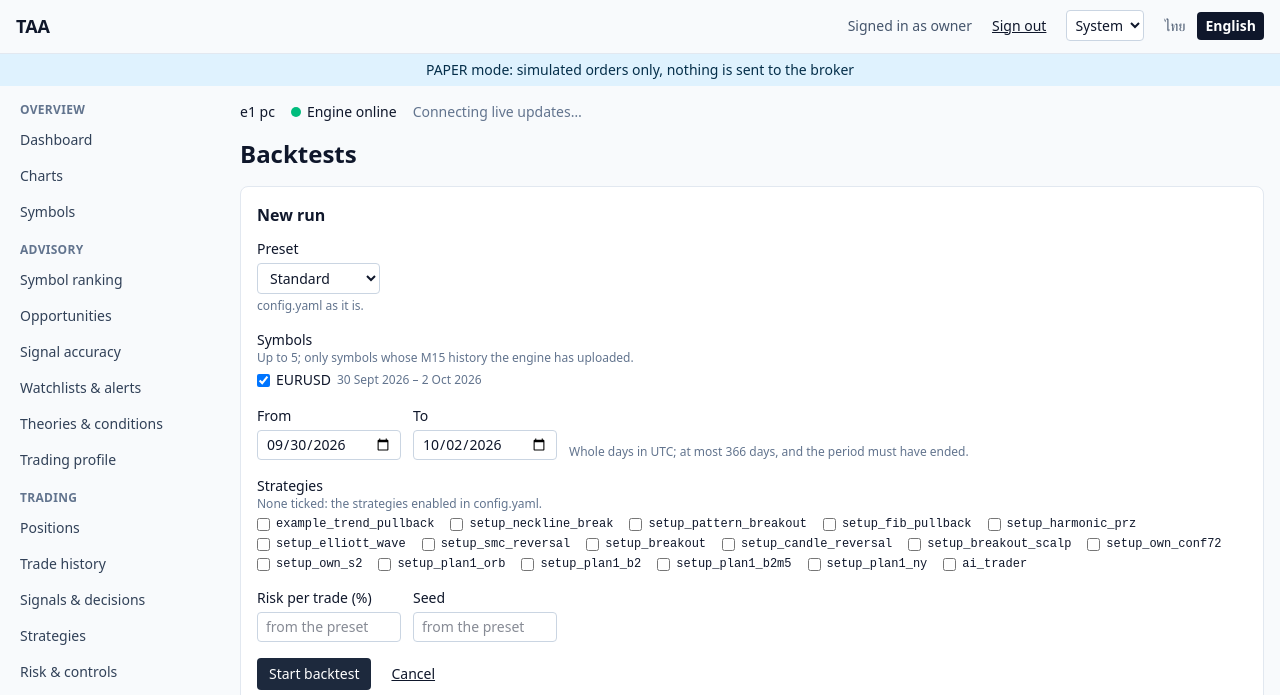
Test: backtests page › explains a refused run and checks the form first
Step 1. Click the checkbox labelled "EURUSD 30 Sept 2026 – 2 Oct 2026" → (264, 380), box [257, 374, 270, 386]
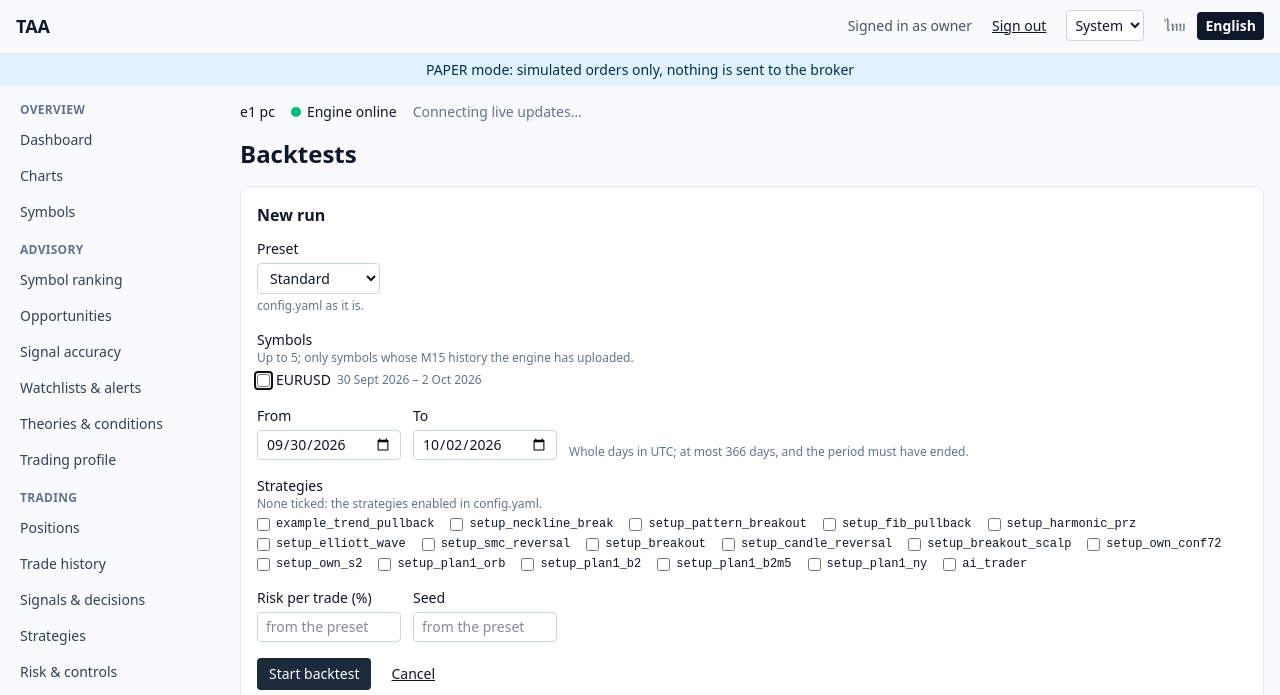
Step 2. Click the button "Start backtest" → (314, 674), box [257, 658, 372, 690]
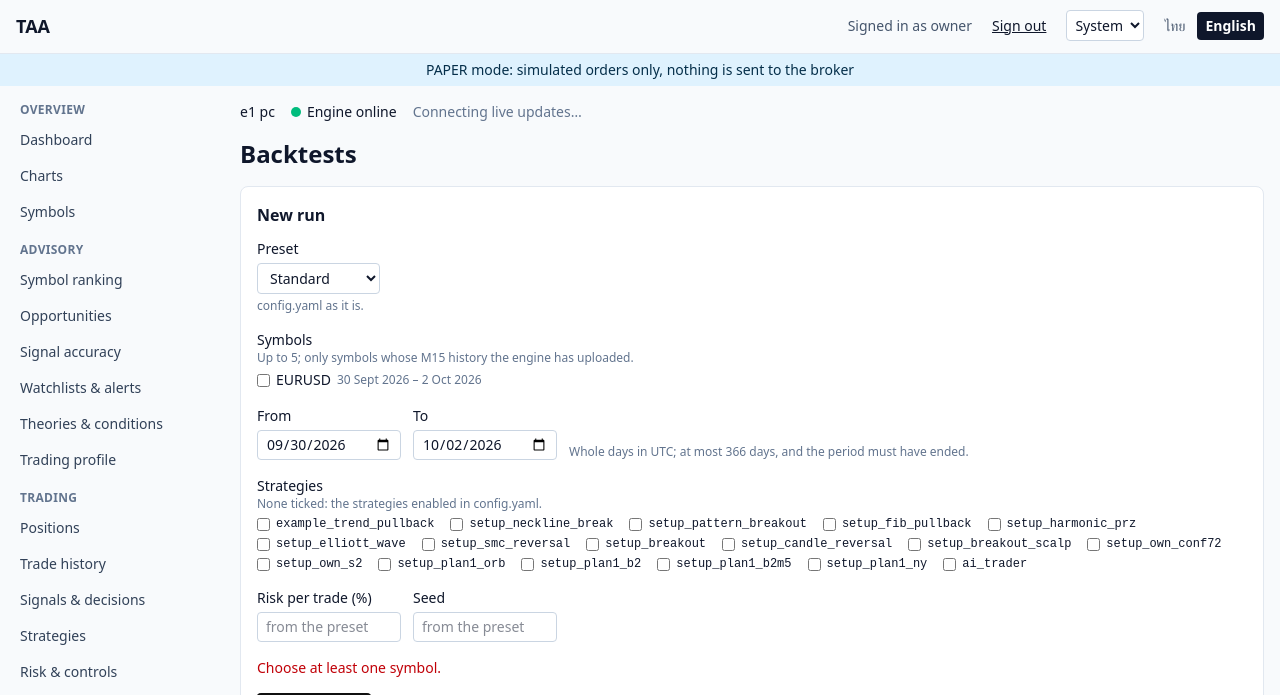
Check: the message reads "Choose at least one symbol.", box [257, 658, 441, 677]
Step 3. Click the checkbox labelled "EURUSD 30 Sept 2026 – 2 Oct 2026" → (264, 380), box [257, 374, 270, 386]
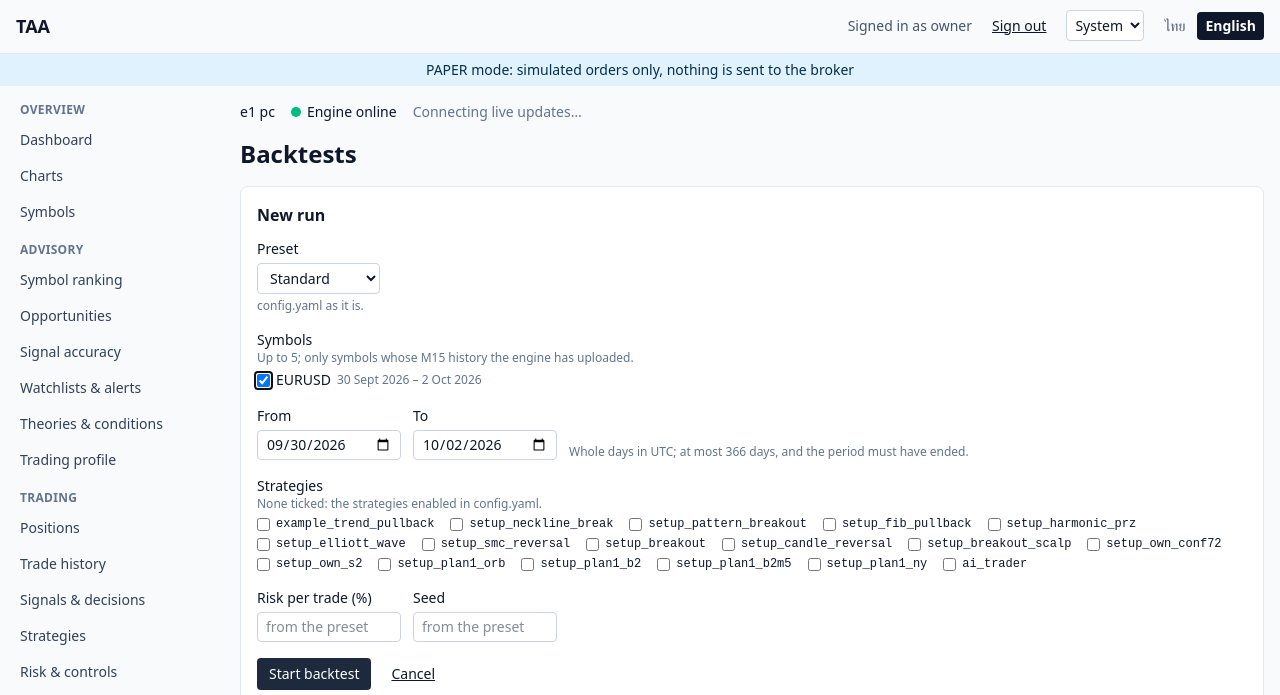
Step 4. Type "2026-09-01" into the date field labelled "From" → (329, 445), box [257, 430, 401, 460]
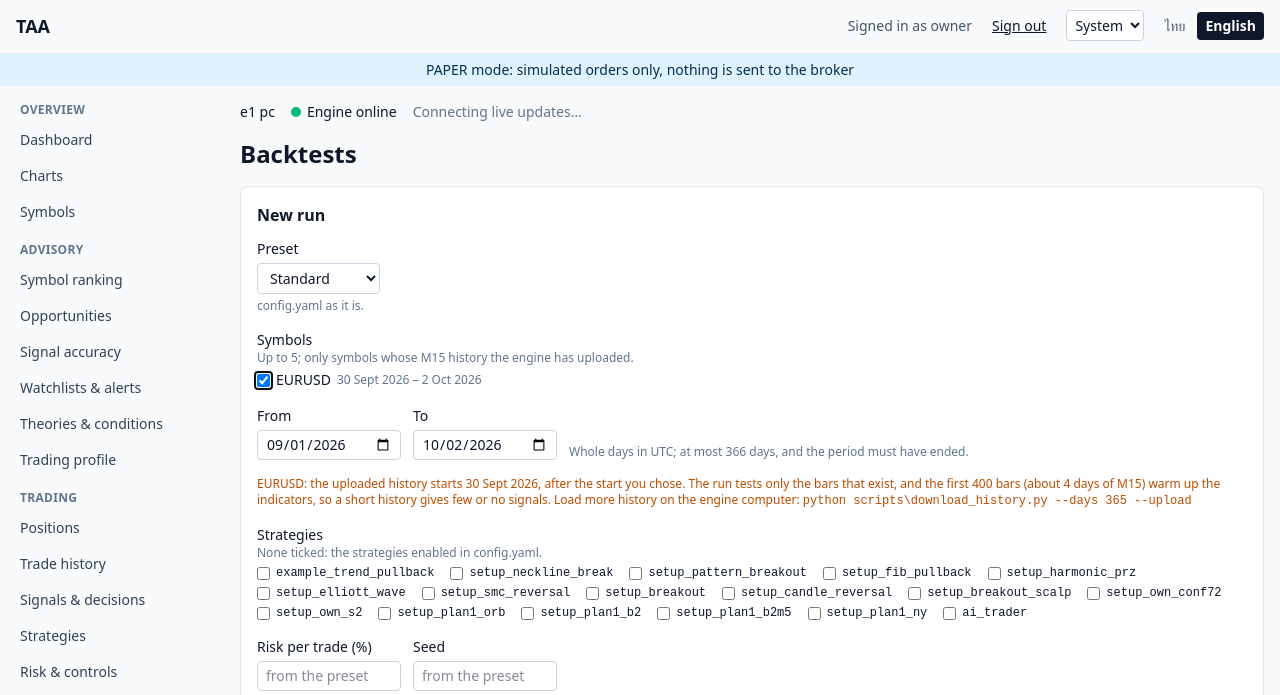
Step 5. Type "2026-09-02" into the date field labelled "To" → (485, 445), box [413, 430, 557, 460]
(page scrolled)
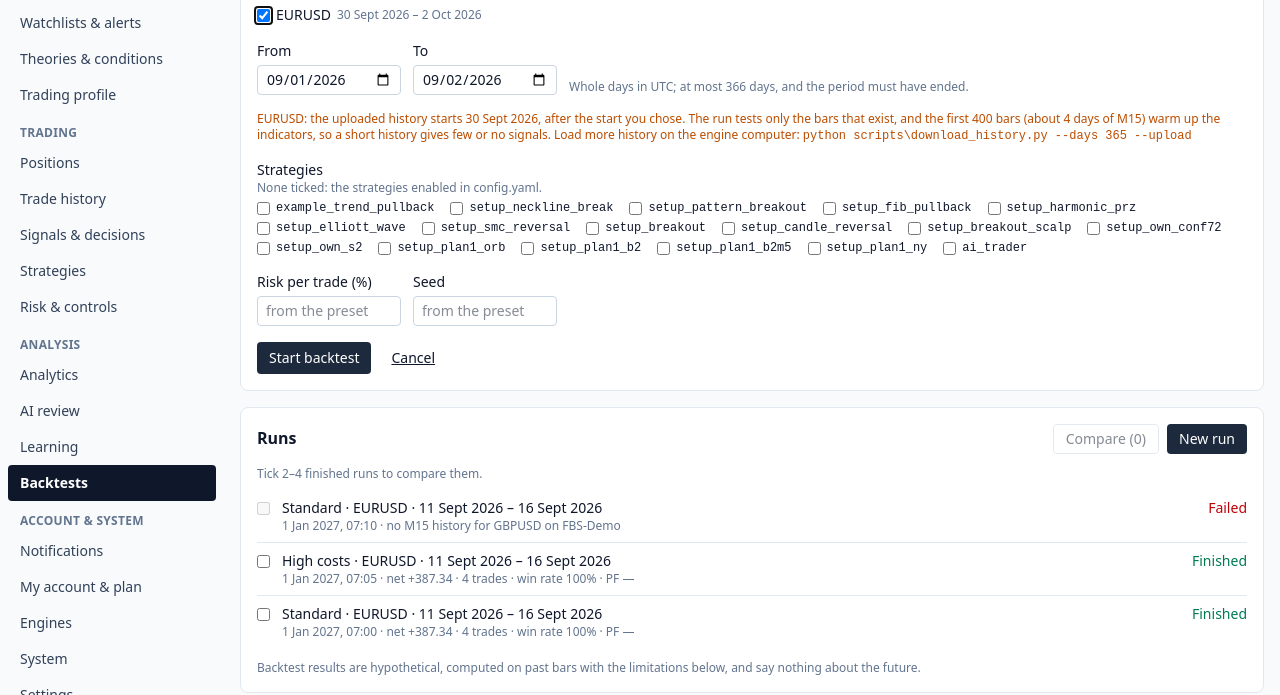
Step 6. Click the button "Start backtest" → (314, 358), box [257, 342, 372, 374]
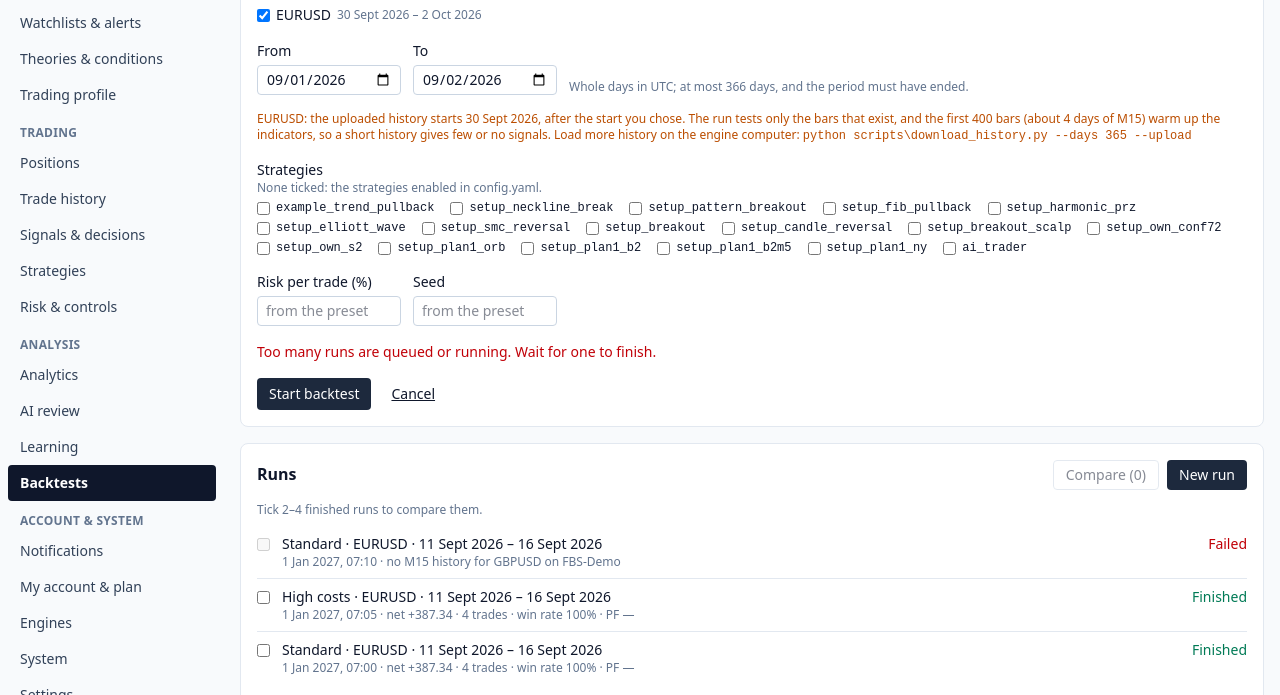
Check: the message "Too many runs are queued or running. Wait for one to finish." is shown, box [257, 342, 656, 361]
